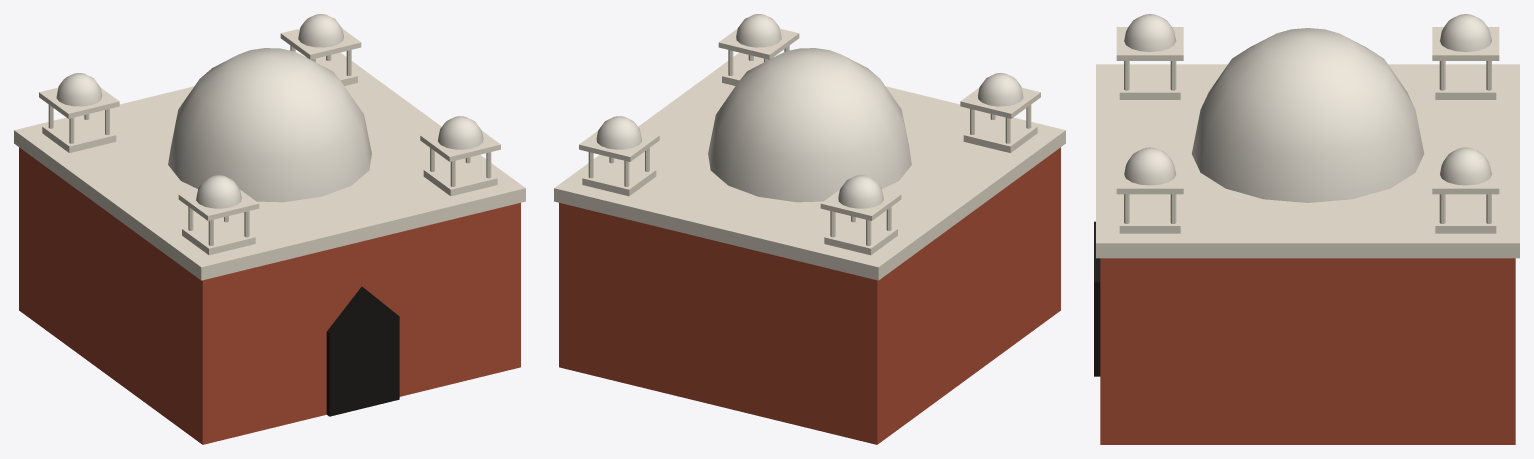
The model's file is mint.glb.
The picture shows the model from 3 angles, left to right: view 1: azimuth 30°, elevation 25°; view 2: azimuth 150°, elevation 25°; view 3: azimuth 270°, elevation 25°; orthographic projection. The views are drawn at different scales.
Visible parts, largest first — view 1: Mint; view 2: Mint; view 3: Mint.
Part boxes in pixels (left/top/right/bottom): Mint: left=14, top=14, right=525, bottom=444; Mint: left=554, top=14, right=1065, bottom=444; Mint: left=1094, top=14, right=1519, bottom=444.
Bounding box in the file's own units: 10.2 × 8.48 × 10.25.
